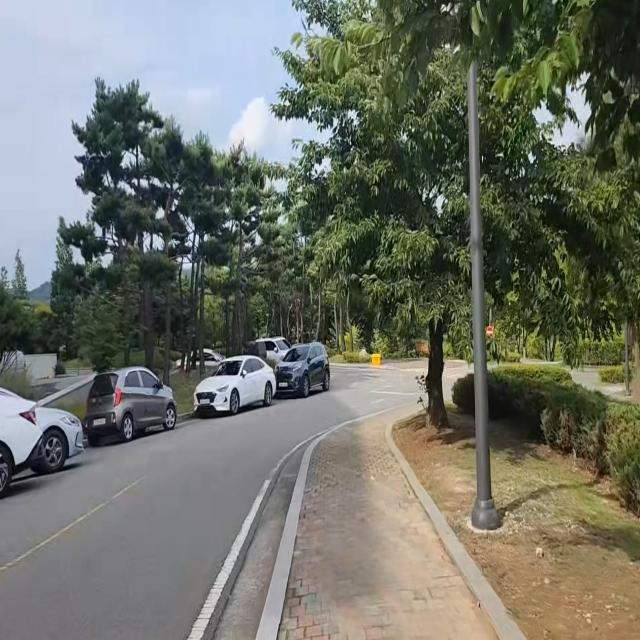obstacle: (462, 41, 506, 525), (0, 386, 87, 504), (84, 360, 179, 450), (192, 351, 275, 421), (250, 335, 333, 401)
road: (0, 365, 413, 640)
sidewalk: (254, 397, 526, 640)
